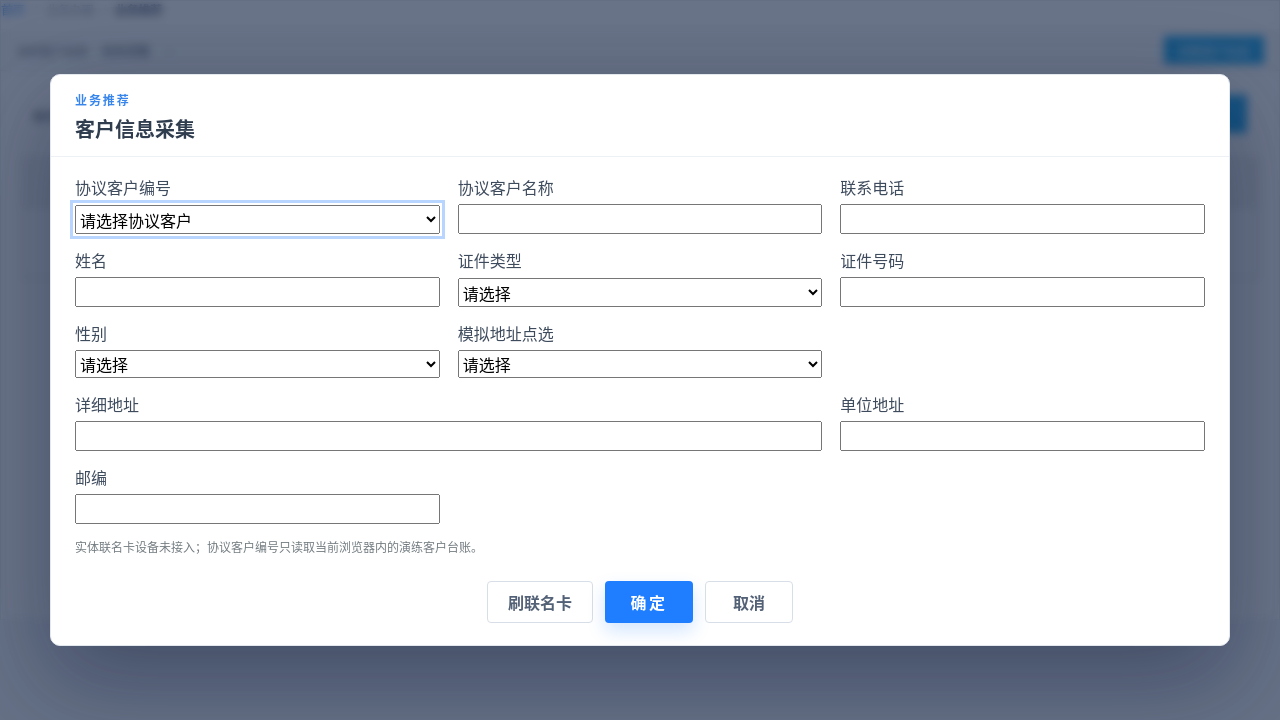
Test: RecommendationWorkspace › keeps customer collection open when saving fails
The width and height of the screenshot is (1280, 720).
Select "91000000000001" in the dropdown named "推荐协议客户编号" at (257, 220), box [75, 205, 440, 234]
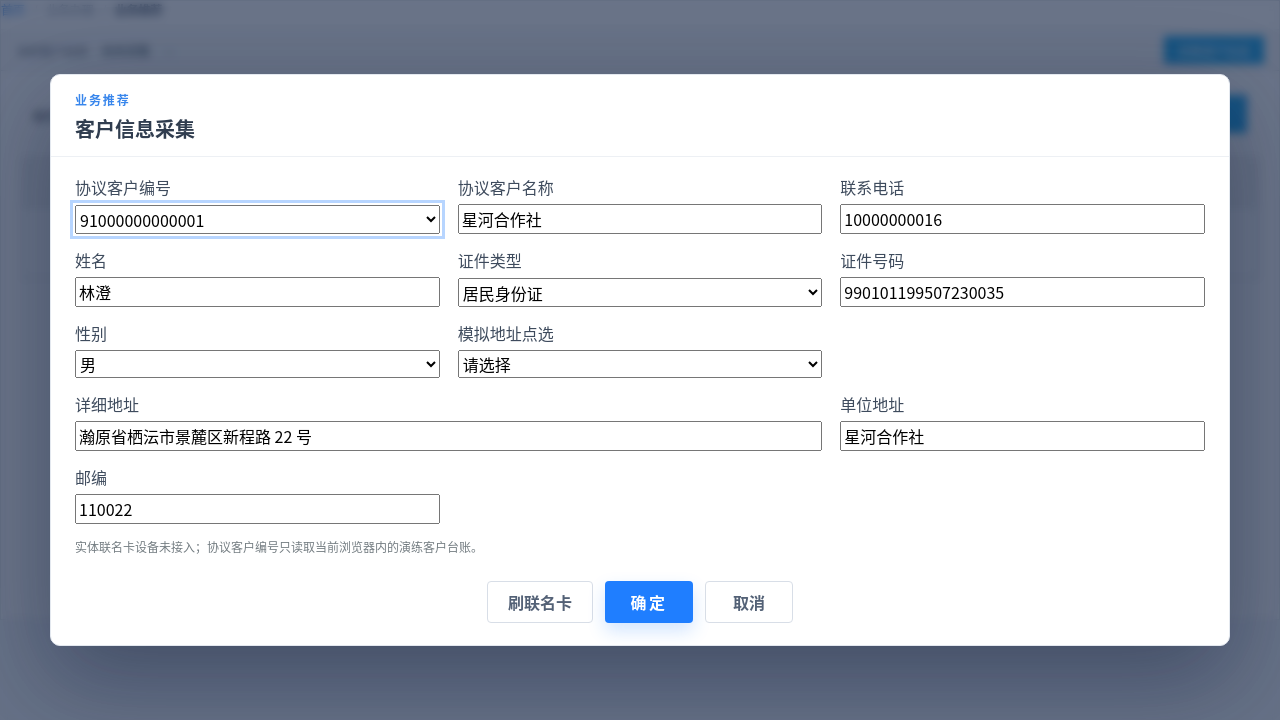
Click the button "确定" at (649, 602), box [605, 581, 693, 623]
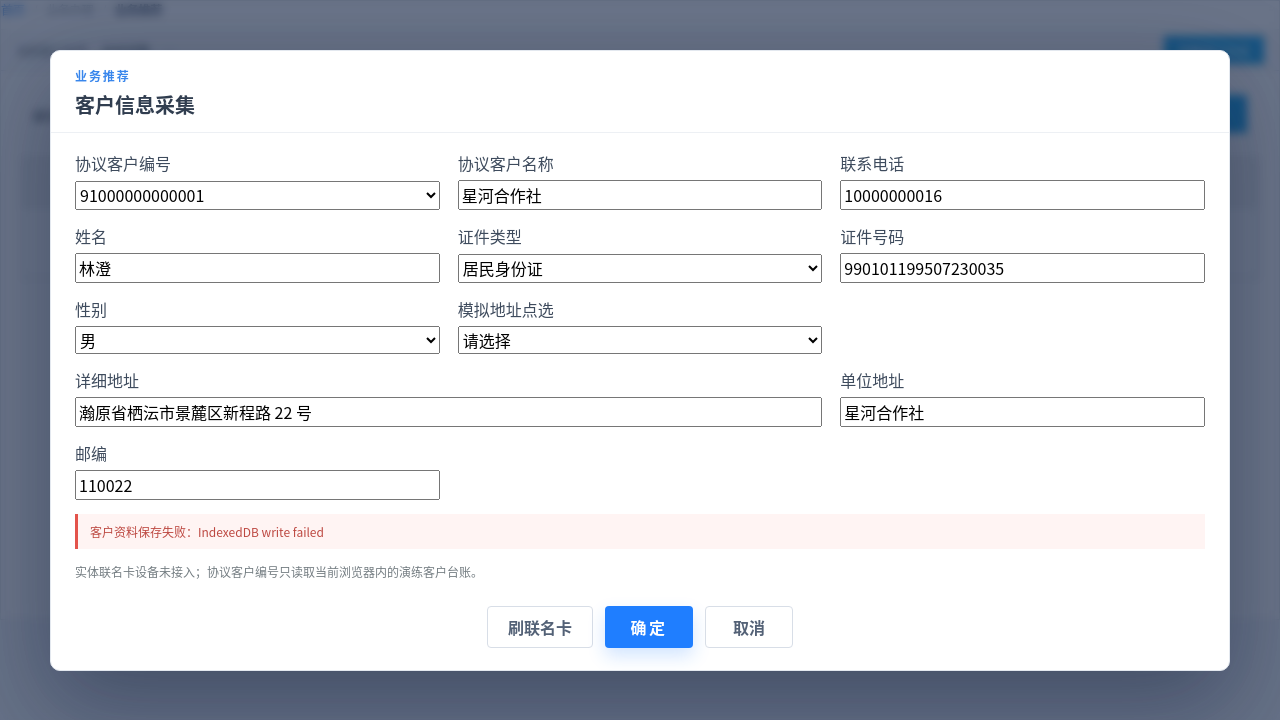
Now the message reads "客户资料保存失败：IndexedDB write failed", box [75, 514, 1205, 548]
